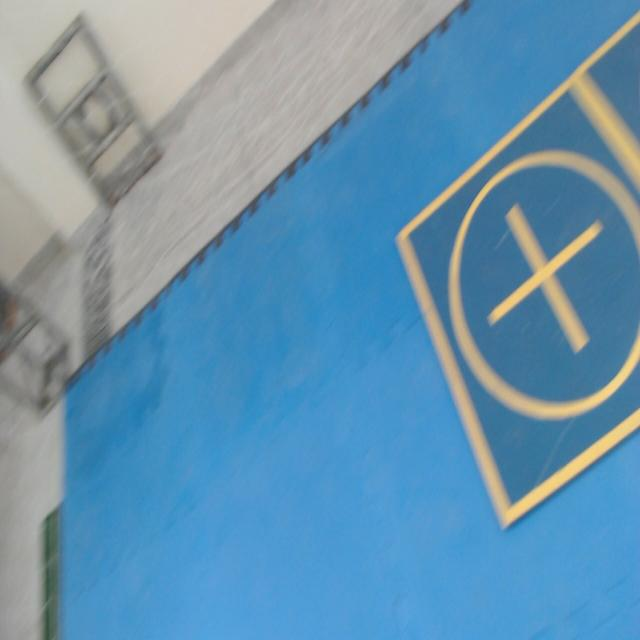base_pouso: (396, 72, 640, 533), (572, 9, 640, 177)
